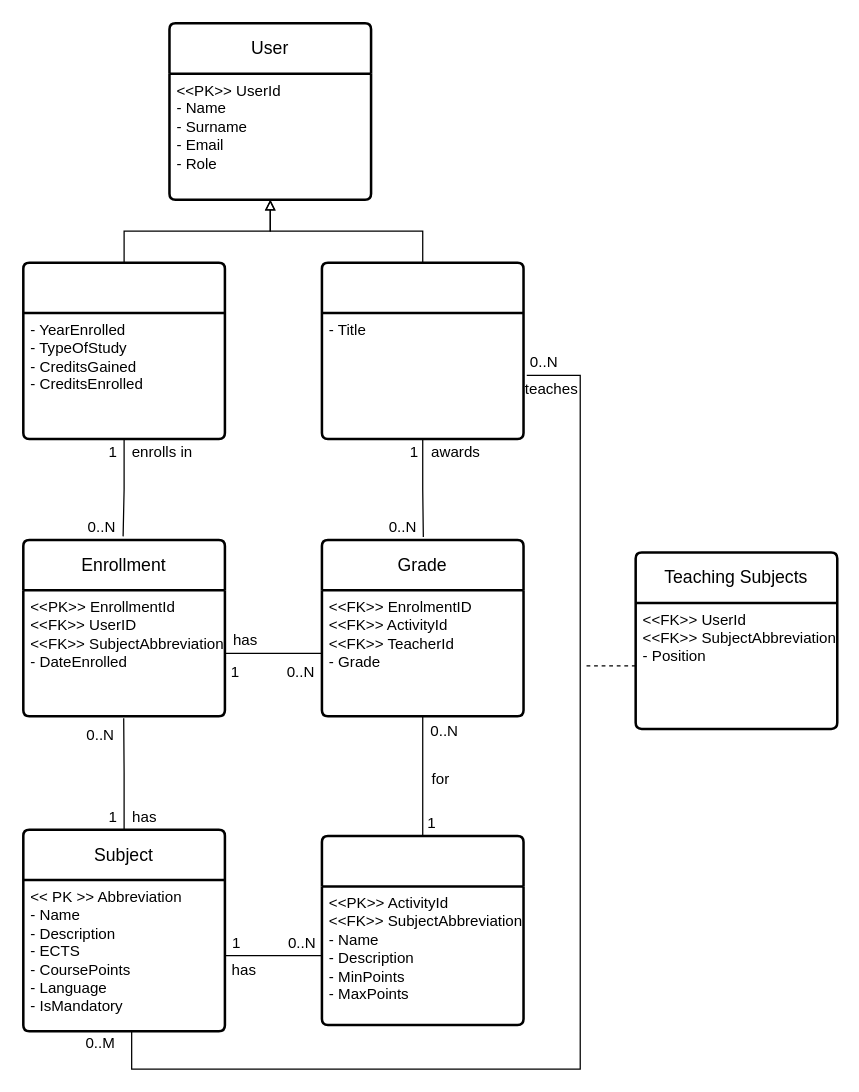
Image size: 859x1092. Some labels were removed from this diagram. Each missing label, with the box of its shape:
GradedActivity: (320, 834, 524, 1026)
Student: (21, 261, 226, 440)
Teacher: (320, 261, 524, 440)
